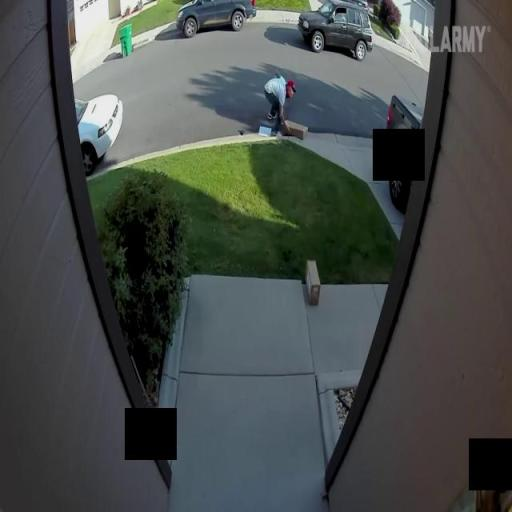Fall: (263, 70, 298, 136)
